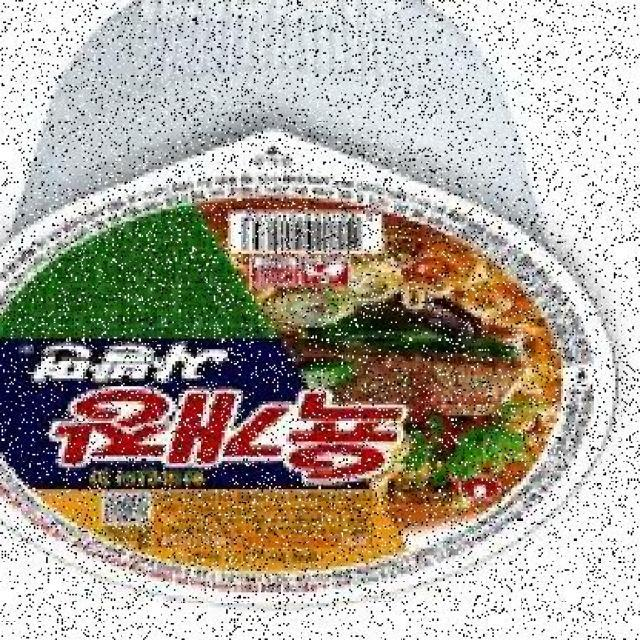Miscellaneous: (0, 0, 618, 615)
